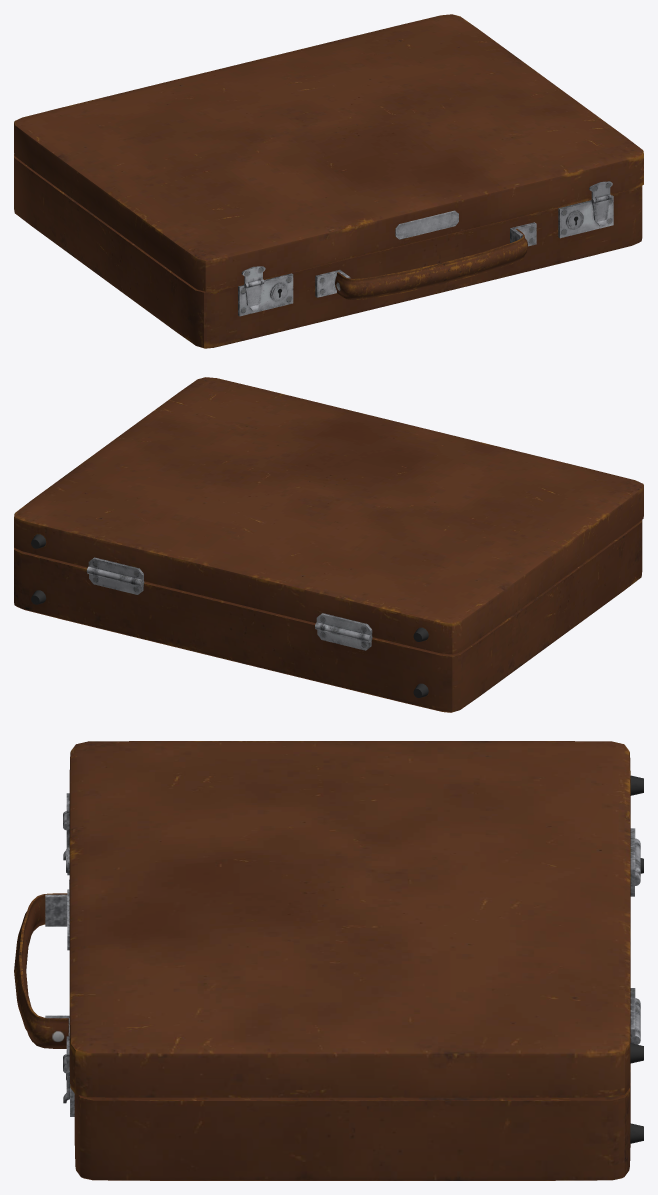
3 renders of one model, top to bottom at view 1: azimuth 30°, elevation 25°; view 2: azimuth 150°, elevation 25°; view 3: azimuth 270°, elevation 25°, orthographic. The views are drawn at different scales.
Parts seen in each view (by area): view 1: TapaSuperior_LP.001, TapaInferior_LP.001, Maneta_LP.001, Hierro1_LP.001, PlaquitaNombre_LP.001, SoporteManeta_LP.001, Mecanismo4_LP.001, Mecanismo3_LP.001, SitioLlave_LP.001; view 2: TapaSuperior_LP.001, TapaInferior_LP.001, Mecanismo2_LP.001, Mecanismo1_LP.001, TopesGoma_LP.001; view 3: TapaSuperior_LP.001, TapaInferior_LP.001, Maneta_LP.001, SoporteManeta_LP.001, Mecanismo1_LP.001, TopesGoma_LP.001.
Part boxes in pixels (x1=…): TapaSuperior_LP.001: x1=14, y1=14, x2=643, y2=291; TapaInferior_LP.001: x1=14, y1=154, x2=642, y2=348; Maneta_LP.001: x1=335, y1=228, x2=527, y2=299; Hierro1_LP.001: x1=238, y1=195, x2=613, y2=316; PlaquitaNombre_LP.001: x1=395, y1=210, x2=458, y2=239; SoporteManeta_LP.001: x1=315, y1=222, x2=536, y2=297; Mecanismo4_LP.001: x1=244, y1=195, x2=609, y2=311; Mecanismo3_LP.001: x1=241, y1=181, x2=612, y2=288; SitioLlave_LP.001: x1=270, y1=211, x2=583, y2=301; TapaSuperior_LP.001: x1=14, y1=377, x2=643, y2=654; TapaInferior_LP.001: x1=14, y1=520, x2=642, y2=712; Mecanismo2_LP.001: x1=89, y1=568, x2=371, y2=650; Mecanismo1_LP.001: x1=86, y1=557, x2=372, y2=642; TopesGoma_LP.001: x1=31, y1=534, x2=428, y2=697; TapaSuperior_LP.001: x1=69, y1=741, x2=630, y2=1097; TapaInferior_LP.001: x1=74, y1=1070, x2=630, y2=1180; Maneta_LP.001: x1=14, y1=893, x2=68, y2=1048; SoporteManeta_LP.001: x1=45, y1=879, x2=69, y2=1036; Mecanismo1_LP.001: x1=630, y1=828, x2=640, y2=1044; TopesGoma_LP.001: x1=630, y1=775, x2=643, y2=1143.
Size of the model in its own units: 40 by 9.14 by 33.98.
1 material, 1 textured.
